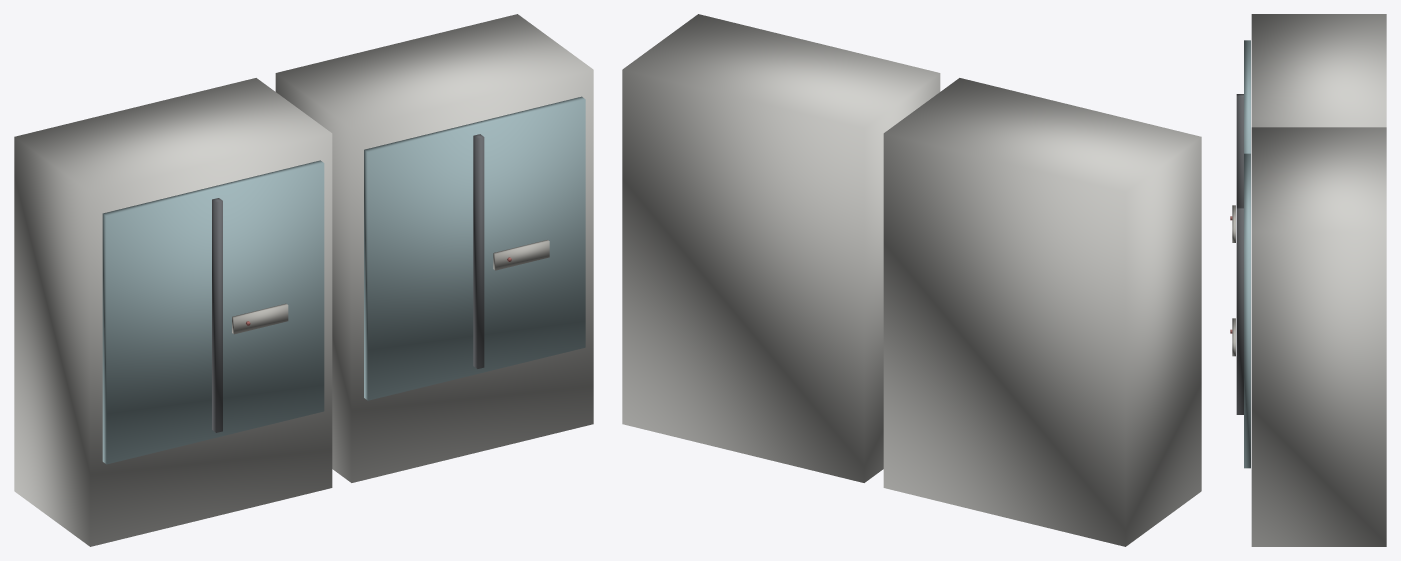
File: refrigerated_display_case__cluster.glb
3 views of the same model, side by side, from view 1: azimuth 30°, elevation 25°; view 2: azimuth 150°, elevation 25°; view 3: azimuth 270°, elevation 25° (orthographic). The views are drawn at different scales.
Parts seen in each view (by area): view 1: world; view 2: world; view 3: world.
Part boxes in pixels (bbox=[...]): world: bbox=[14, 14, 593, 546]; world: bbox=[622, 14, 1201, 546]; world: bbox=[1230, 14, 1386, 546].
Bounding box in the file's own units: 2.6 × 1.75 × 0.786.
